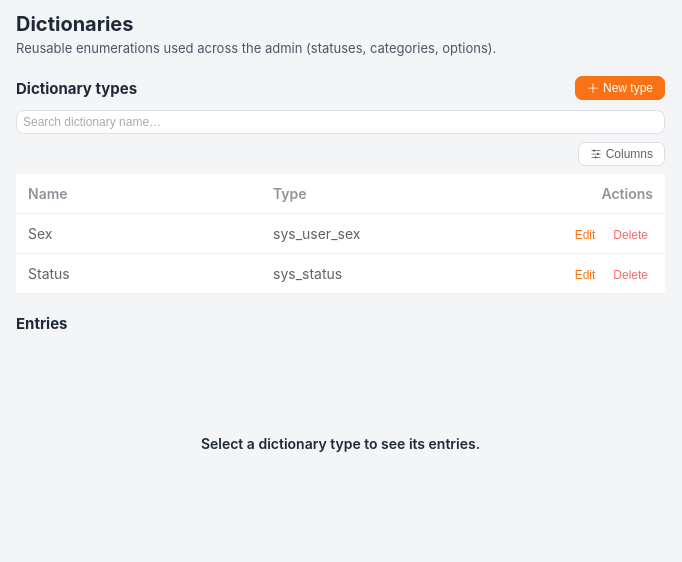
Dictionary page › loads the entries of the clicked type
Click the row "Sex sys_user_sex Edit Delete" at [340, 234], box [16, 214, 665, 254]
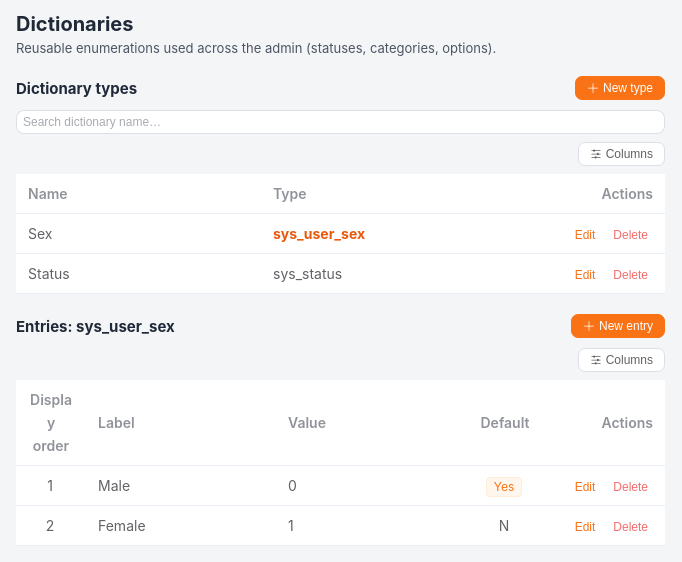
Expected: the text "Male" is shown, [98, 477, 130, 494]
Expected: the text "Female" is shown, [98, 517, 146, 534]
